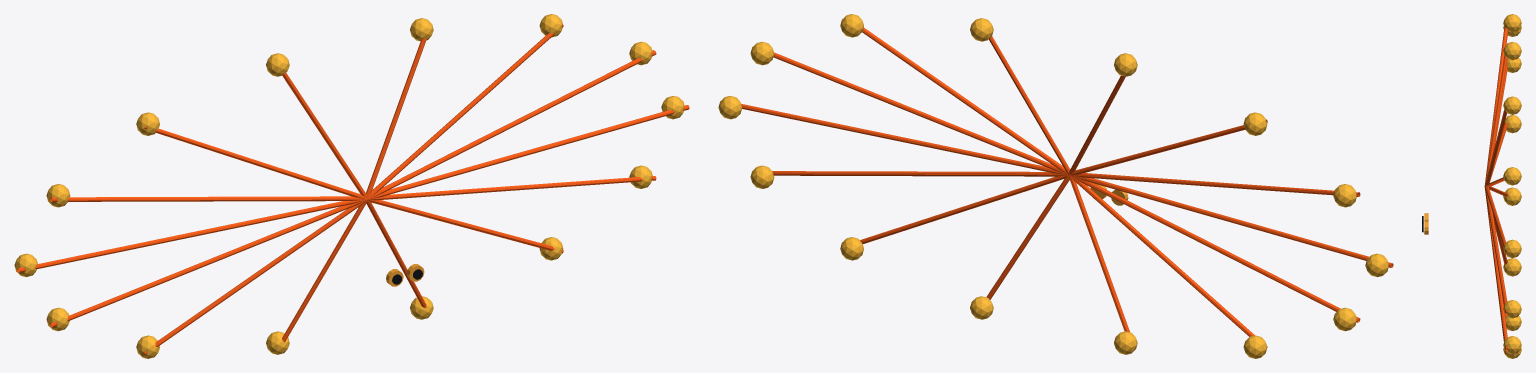
The model's file is 84_L89_ExteriorParticleFieldEmitter.fbx.
The picture shows the model from 3 angles, left to right: view 1: azimuth 30°, elevation 25°; view 2: azimuth 150°, elevation 25°; view 3: azimuth 270°, elevation 25°; orthographic projection. The views are drawn at different scales.
Visible parts, largest first — view 1: L87_ExteriorParticleFieldEmitter_Part_0000, L87_ExteriorParticleFieldEmitter_Part_0001; view 2: L87_ExteriorParticleFieldEmitter_Part_0000, L87_ExteriorParticleFieldEmitter_Part_0001; view 3: L87_ExteriorParticleFieldEmitter_Part_0001, L87_ExteriorParticleFieldEmitter_Part_0000.
Boxes of the visible parts, left/top/right/bottom form: L87_ExteriorParticleFieldEmitter_Part_0000: left=17, top=23, right=689, bottom=354; L87_ExteriorParticleFieldEmitter_Part_0001: left=14, top=14, right=684, bottom=358; L87_ExteriorParticleFieldEmitter_Part_0000: left=741, top=27, right=1393, bottom=347; L87_ExteriorParticleFieldEmitter_Part_0001: left=718, top=14, right=1388, bottom=358; L87_ExteriorParticleFieldEmitter_Part_0001: left=1503, top=14, right=1521, bottom=358; L87_ExteriorParticleFieldEmitter_Part_0000: left=1484, top=27, right=1509, bottom=354.
Bounding box in the file's own units: 580 × 248 × 96.2.
